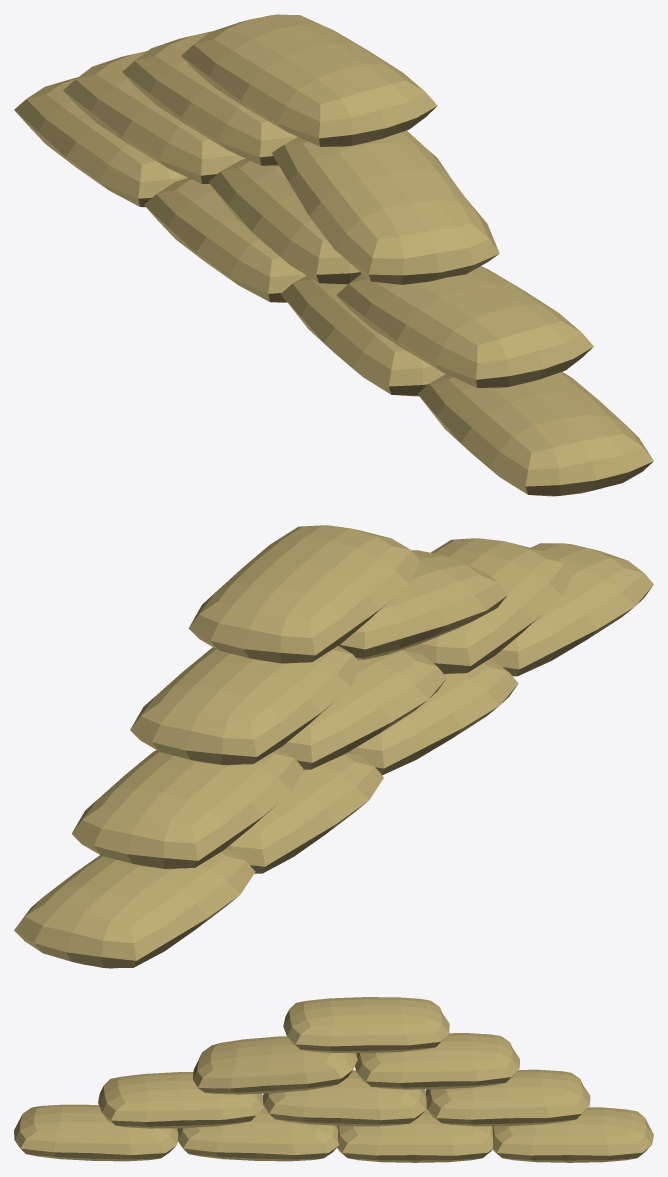
Rendered from Sandbag.fbx.
The picture shows the model from 3 angles, top to bottom: view 1: azimuth 30°, elevation 25°; view 2: azimuth 150°, elevation 25°; view 3: azimuth 270°, elevation 25°; orthographic projection. The views are drawn at different scales.
Parts seen in each view (by area): view 1: Cube.008; view 2: Cube.008; view 3: Cube.008.
Boxes of the visible parts, x1,y1,x2,y2 form: Cube.008: (14, 14, 653, 496); Cube.008: (14, 525, 653, 968); Cube.008: (14, 997, 653, 1162).
Bounding box in the file's own units: 131 × 198 × 772.
